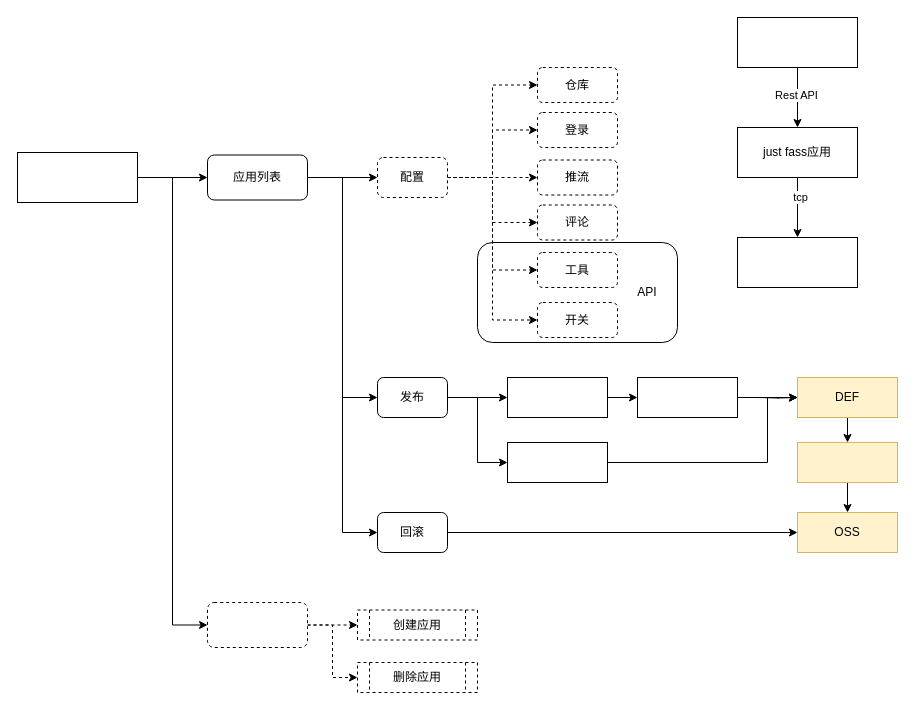
Some shapes in this 915 by 710 pixel diagram are drawn without their labels. The shapes that lost their labels are listed below. From the top down, each one's centre as x and y in pixels, then its label:
the point at 797,42: def前端应用 + AntD
the point at 77,177: electron推流应用 发布系统
the point at 797,262: DMS数据管理 MySql
the point at 557,397: 灰度发布
the point at 687,397: 灰度配置
the point at 557,462: 全量发布
the point at 847,462: GitLab
the point at 257,625: 应用管理
